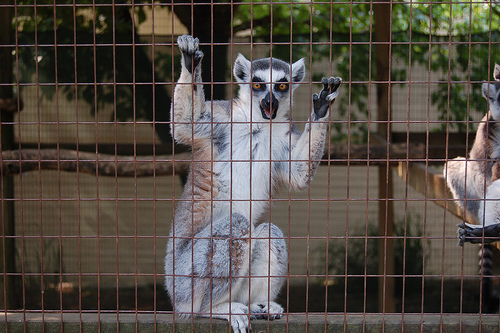cat: (153, 33, 347, 332), (398, 65, 499, 274)
